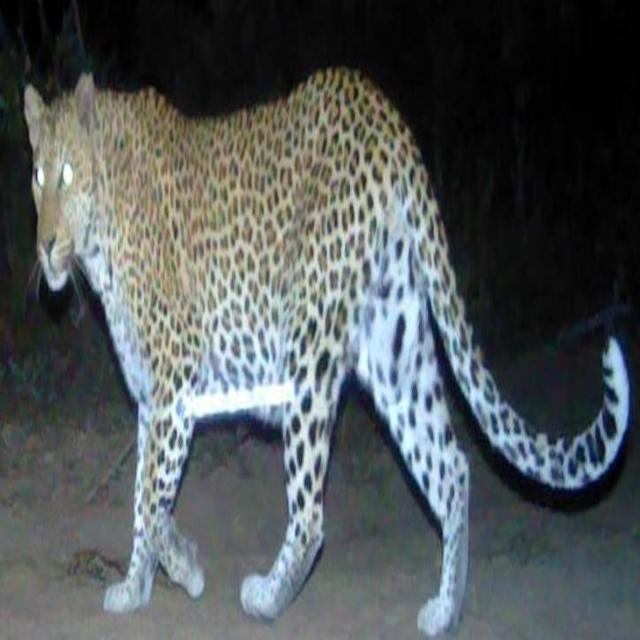Leopard: (14, 76, 629, 636)
